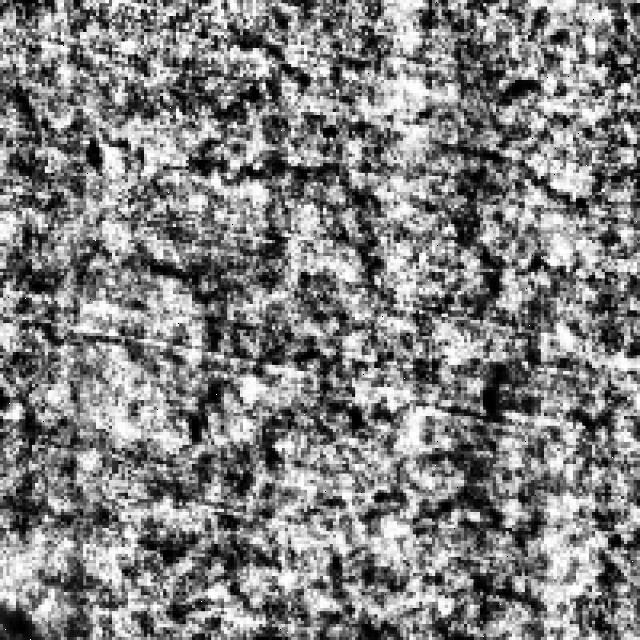Pitted_Surface: (157, 26, 397, 438)
